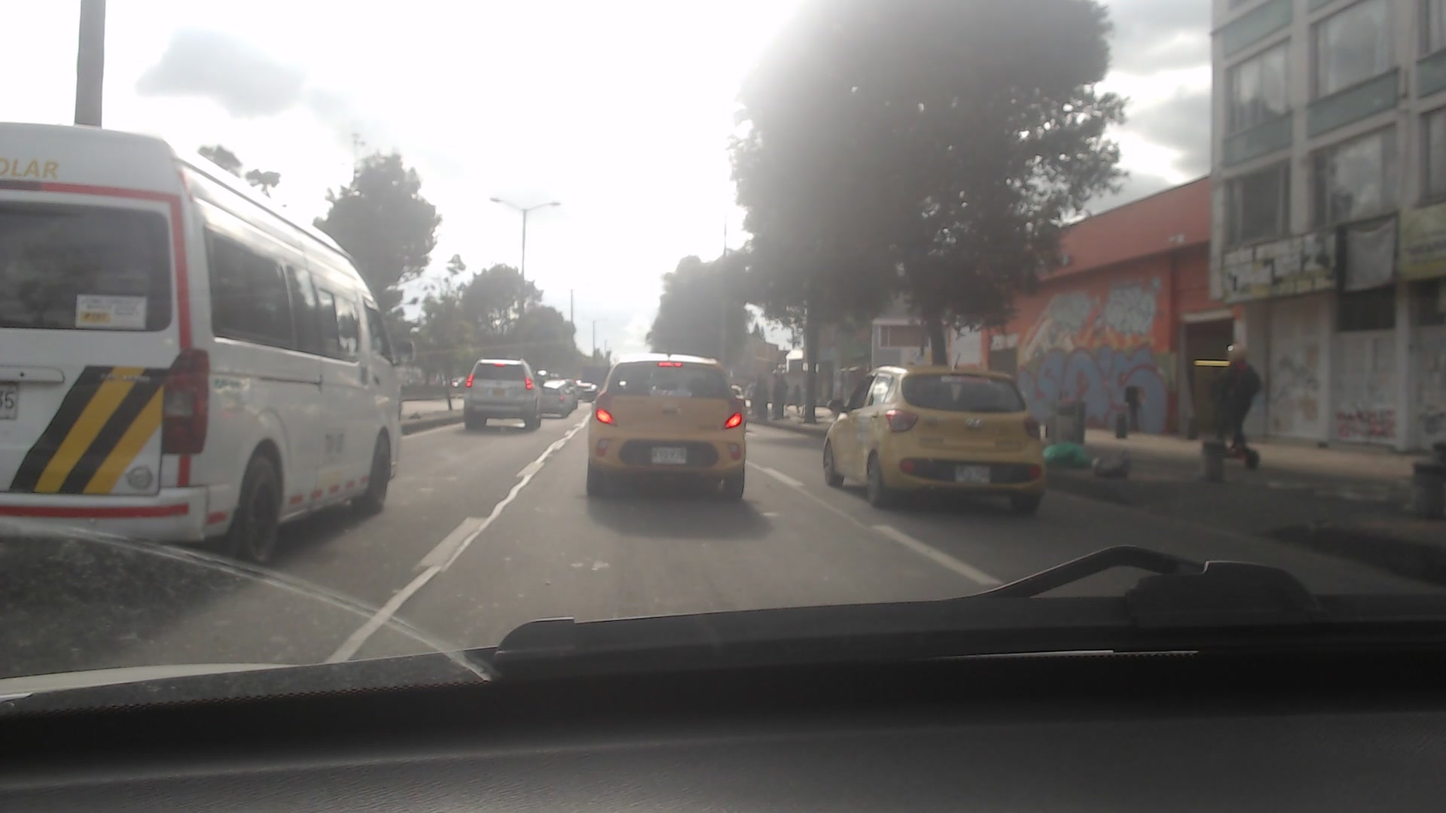bus: (0, 106, 408, 548)
car: (813, 363, 1052, 520), (584, 353, 748, 503), (459, 359, 547, 426)
person: (1197, 338, 1266, 460)
